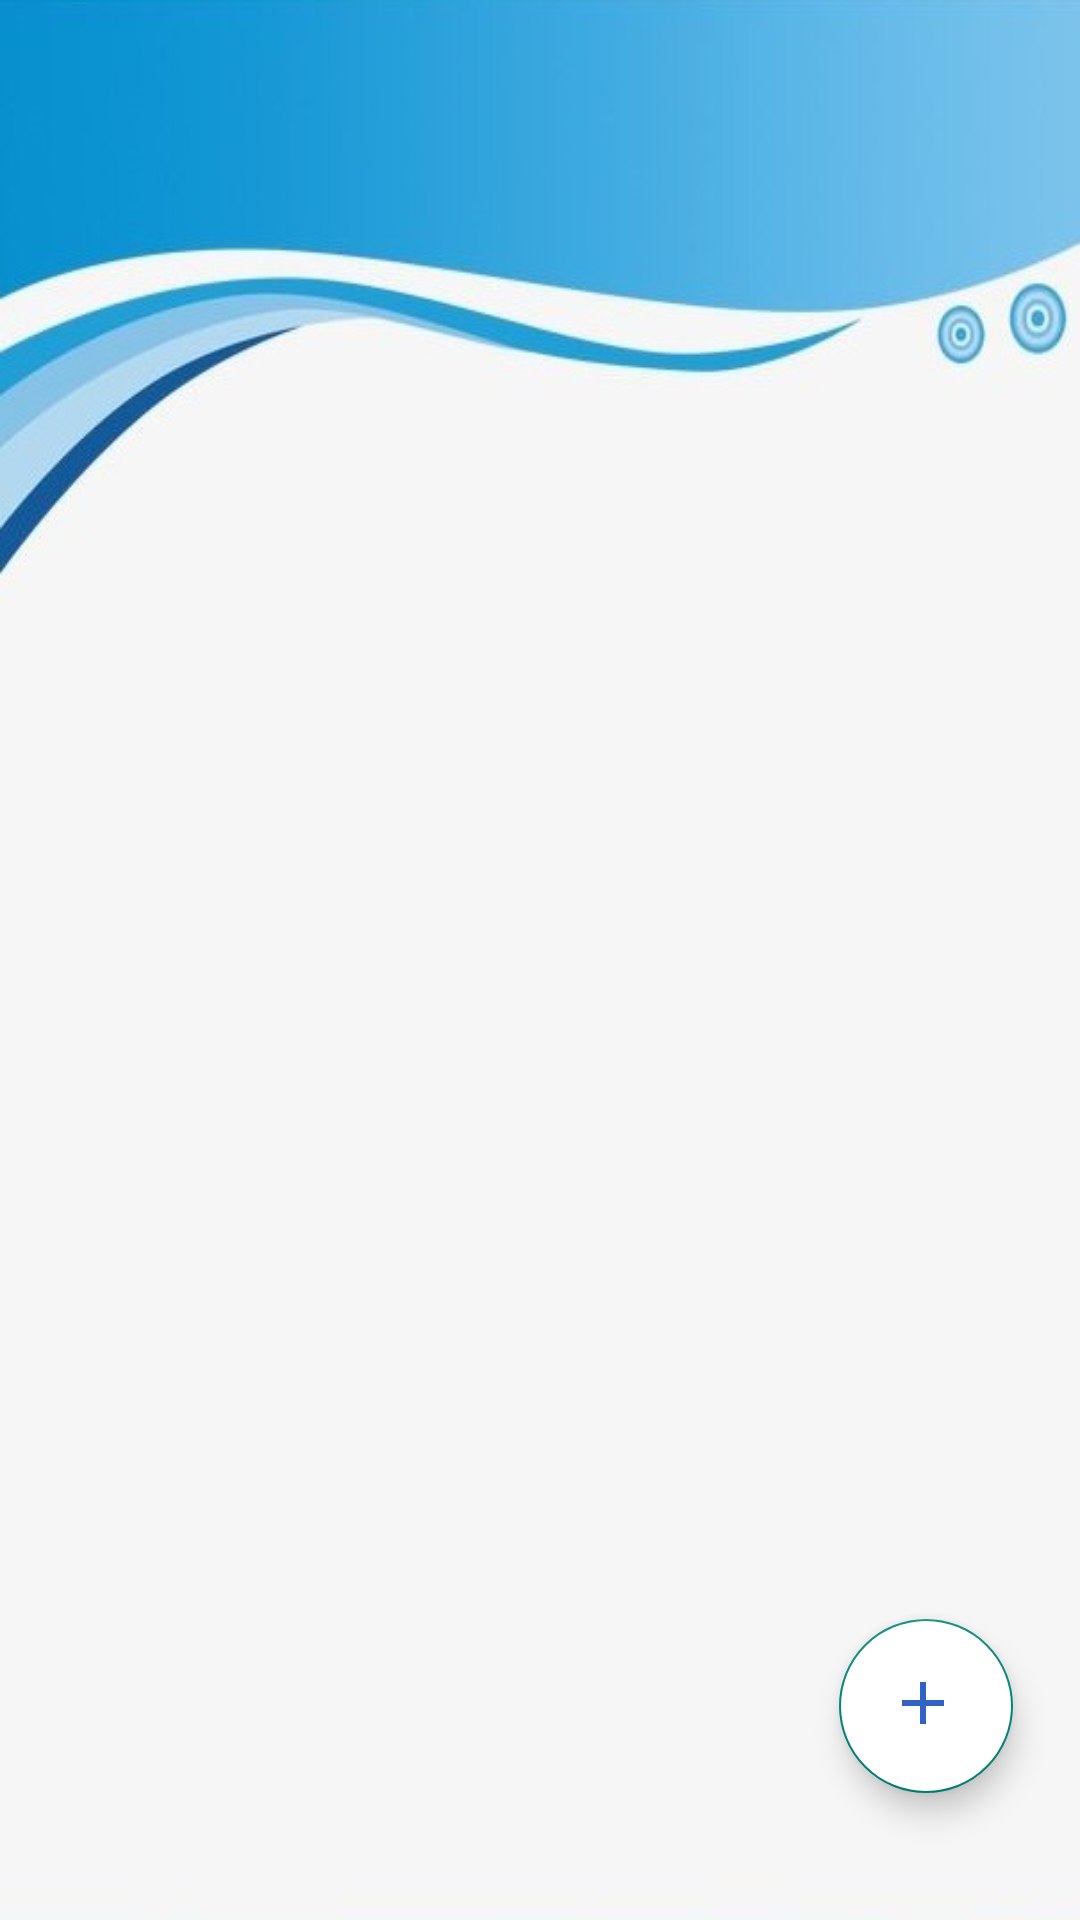

Named icons in this screenshot (1080px×1920px) and their bounding boxes, (x1, y1, x2, y2):
add: (839, 1619, 1013, 1793)
